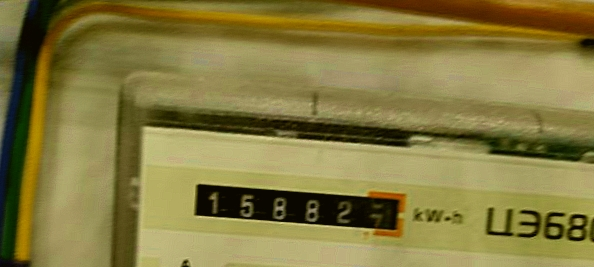1: (206, 186, 222, 212)
2: (336, 196, 353, 221)
5: (238, 188, 256, 215)
7: (368, 206, 384, 227)
8: (271, 192, 289, 219), (304, 194, 321, 220)
screen: (179, 163, 416, 246)
